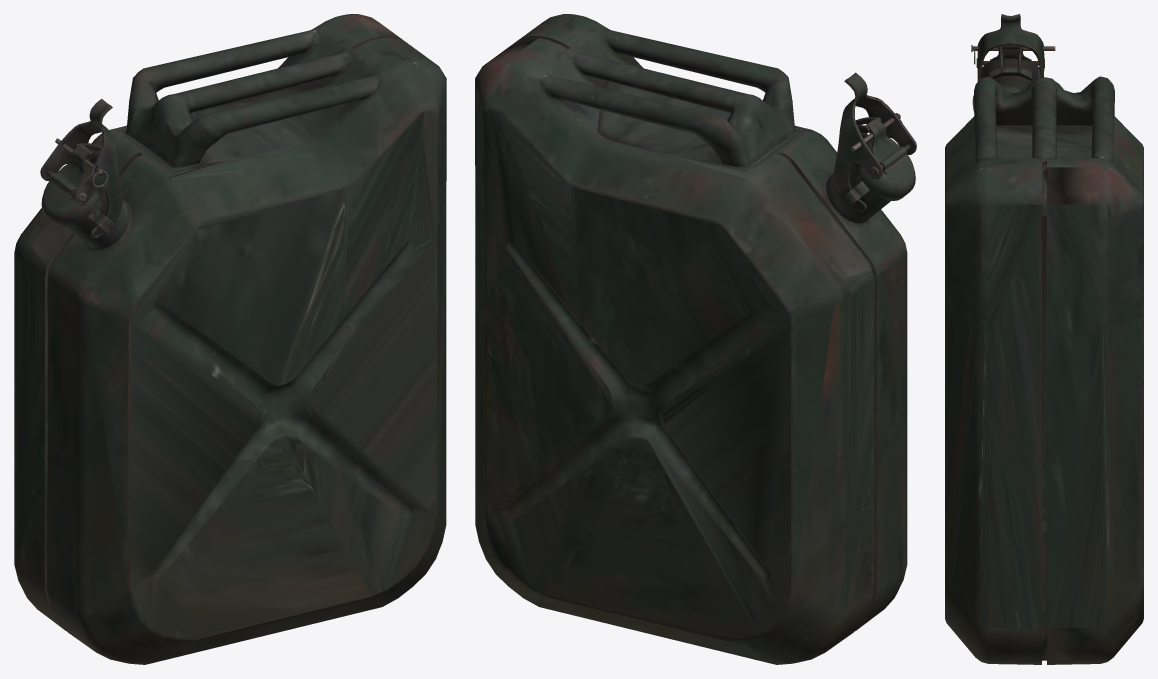
The model's file is metal-jerrycan-green.glb.
The picture shows the model from 3 angles, left to right: view 1: azimuth 30°, elevation 25°; view 2: azimuth 150°, elevation 25°; view 3: azimuth 270°, elevation 25°; orthographic projection. The views are drawn at different scales.
Visible parts, largest first — view 1: metal_jerrycan_green; view 2: metal_jerrycan_green; view 3: metal_jerrycan_green.
Boxes of the visible parts, x1=… form: metal_jerrycan_green: x1=14, y1=14, x2=446, y2=664; metal_jerrycan_green: x1=475, y1=14, x2=916, y2=664; metal_jerrycan_green: x1=945, y1=14, x2=1143, y2=664.
Size of the model in its own units: 0.3604 by 0.4999 by 0.1709.
Materials: 1 (1 with a texture image).
